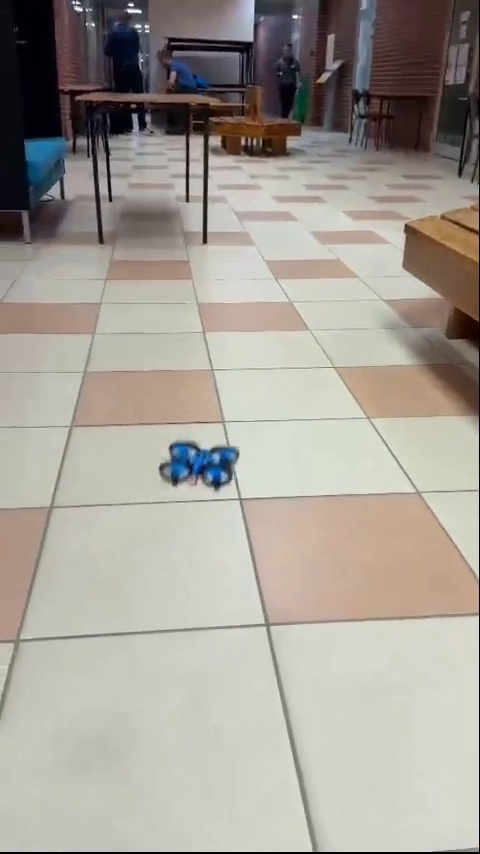drone: (170, 437, 242, 488)
no vest: (104, 9, 152, 96), (270, 36, 301, 129), (156, 51, 204, 97)
